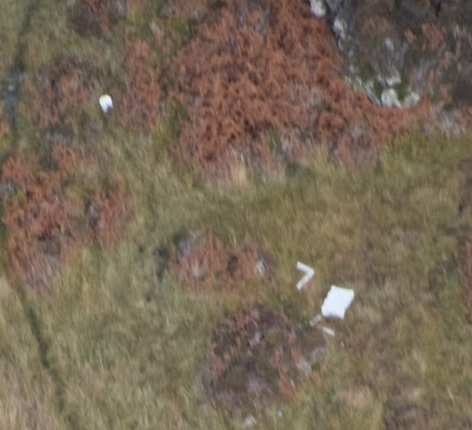scattered_barrel: (278, 247, 382, 350)
white_in_green: (71, 72, 141, 134)
